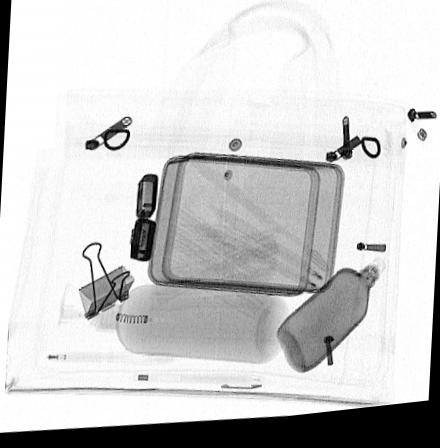Lighter: (129, 175, 158, 265)
